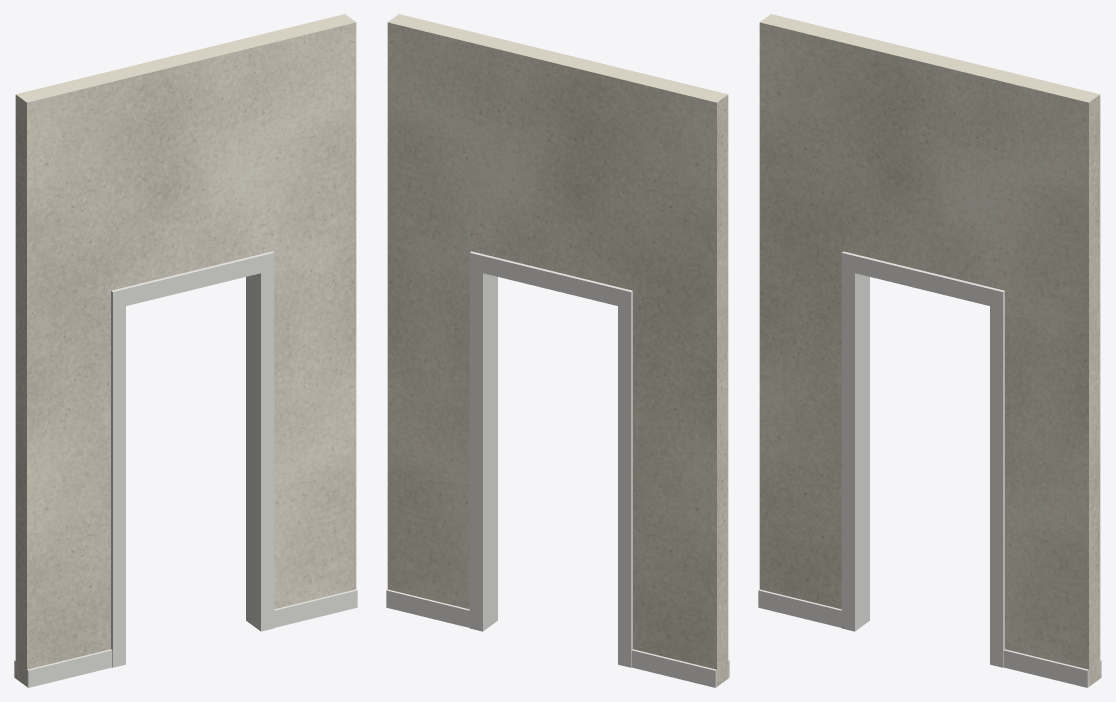
The model's file is attic_wall_bath.glb.
3 views of the same model, side by side, from view 1: azimuth 30°, elevation 25°; view 2: azimuth 150°, elevation 25°; view 3: azimuth 330°, elevation 25° (orthographic).
Visible parts, largest first — view 1: attic_wall_bath_plaster, attic_wall_bath_frame, attic_wall_bath_trim; view 2: attic_wall_bath_plaster, attic_wall_bath_frame, attic_wall_bath_trim; view 3: attic_wall_bath_plaster, attic_wall_bath_frame, attic_wall_bath_trim.
Boxes of the visible parts, x1,y1,x2,y2 form: attic_wall_bath_plaster: (15,14,356,686); attic_wall_bath_frame: (111,251,274,667); attic_wall_bath_trim: (14,589,357,687); attic_wall_bath_plaster: (387,14,728,686); attic_wall_bath_frame: (469,251,632,667); attic_wall_bath_trim: (386,589,729,687); attic_wall_bath_plaster: (759,14,1100,686); attic_wall_bath_frame: (841,251,1004,667); attic_wall_bath_trim: (758,589,1101,687).
Size of the model in its own units: 2 by 3.39 by 0.16.
3 materials, 1 textured.
